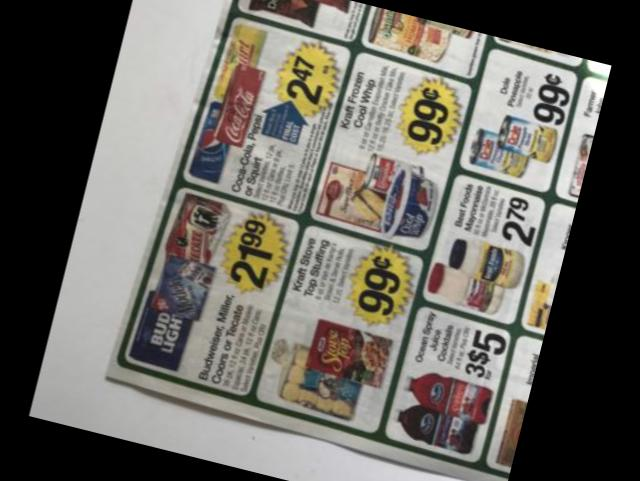cardboard paper: (112, 0, 610, 481)
